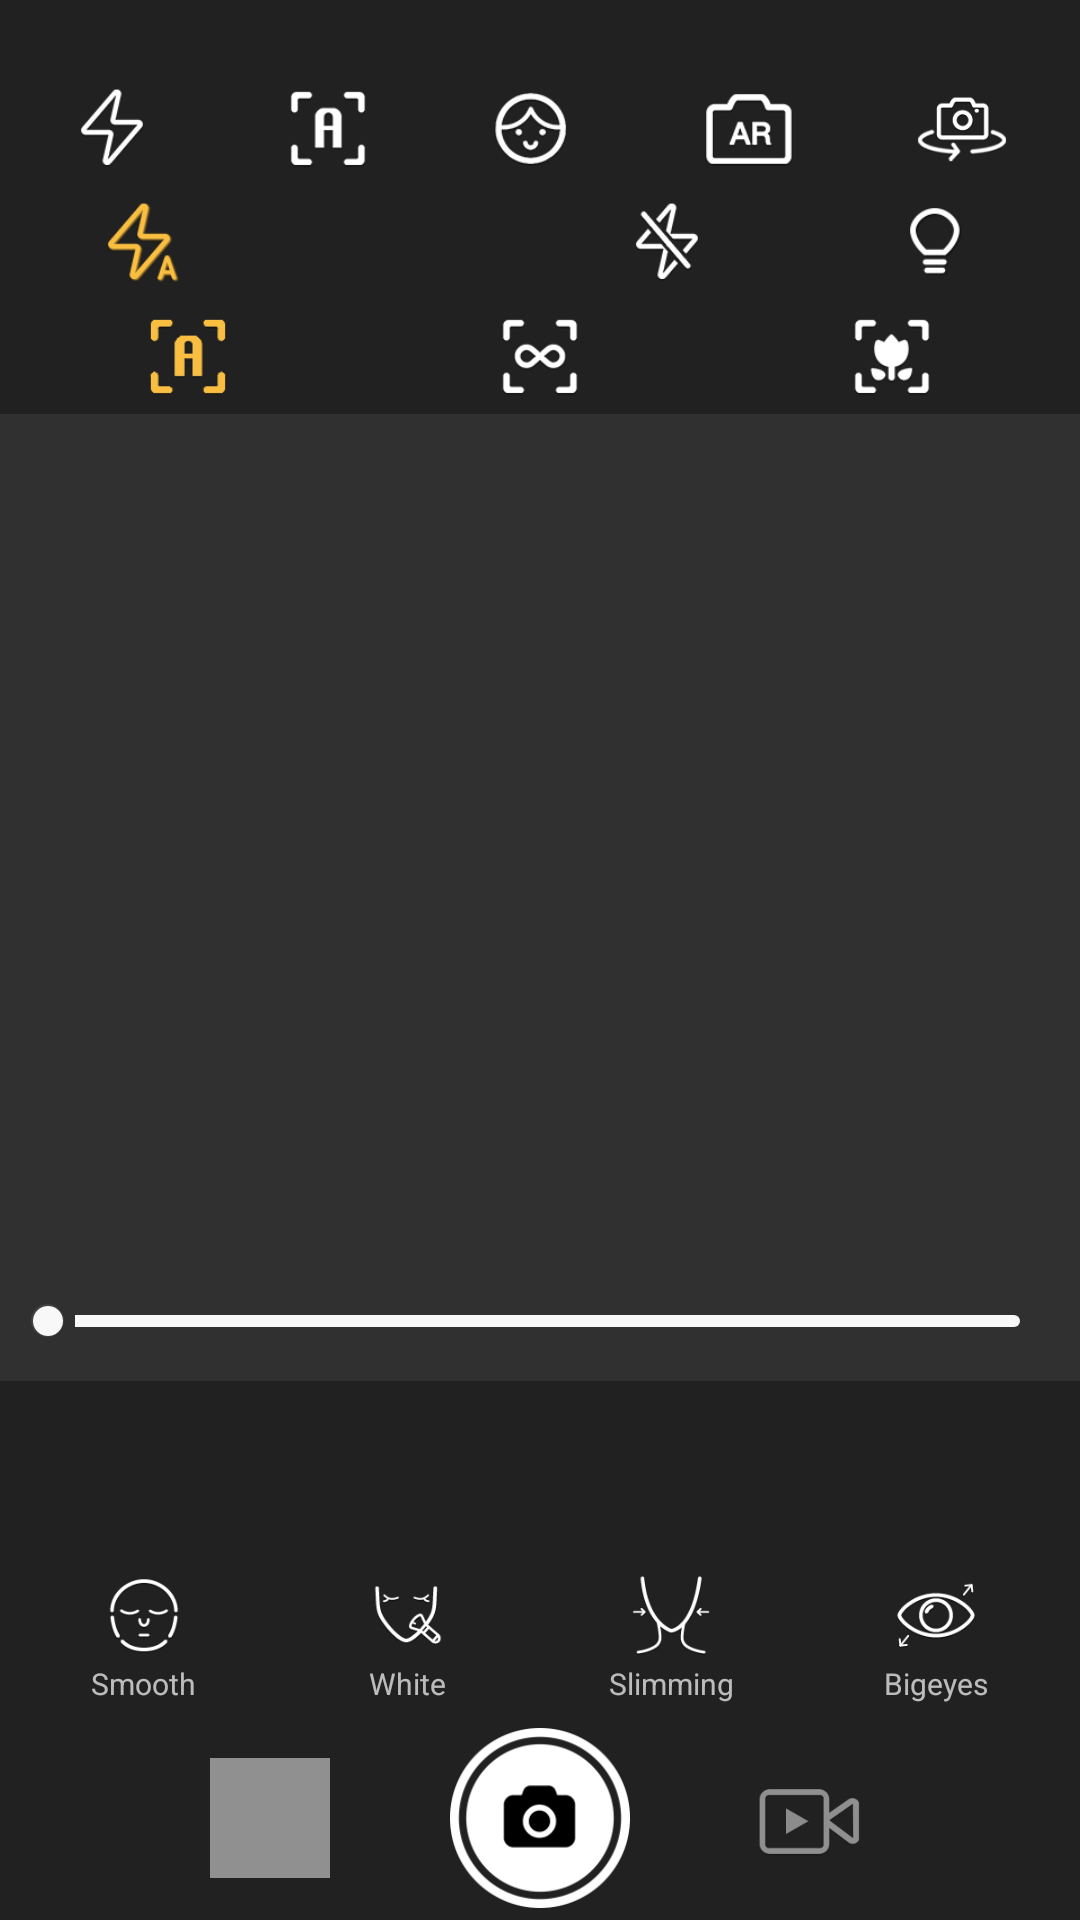

Icons on this 1080w x 1920h Android screen, each with the point to tap as point (x, y):
face: point (530, 128)
flash auto sel: point (143, 242)
flash off: point (667, 241)
focus auto: point (328, 128)
focus auto sel: point (188, 356)
focus infinit: point (540, 356)
focus macro: point (892, 356)
shutter: point (540, 1818)
switch: point (962, 129)
